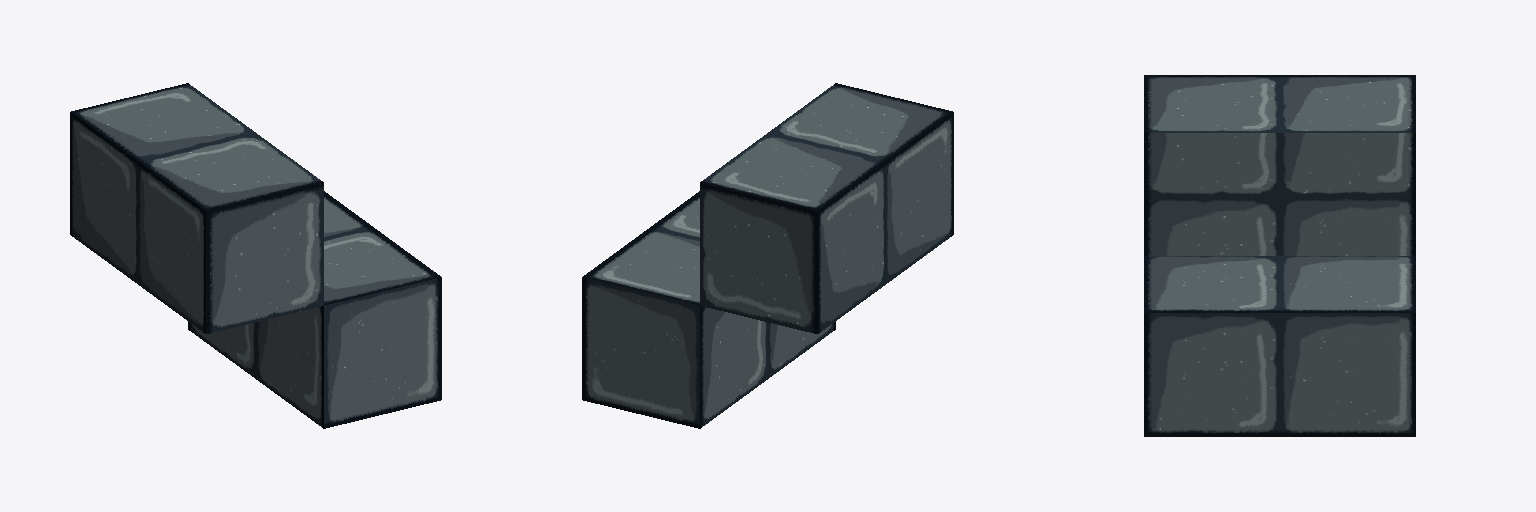
3 renders of one model, left to right at view 1: azimuth 30°, elevation 25°; view 2: azimuth 150°, elevation 25°; view 3: azimuth 270°, elevation 25°, orthographic.
Visible parts, largest first — view 1: 9_stone; view 2: 9_stone; view 3: 9_stone.
Boxes of the visible parts, box(x1,y1,x2,y2) form: 9_stone: box(70, 83, 441, 428); 9_stone: box(582, 83, 953, 428); 9_stone: box(1144, 75, 1415, 436).
Size of the model in its own units: 1 by 1 by 1.
1 materials, 1 textured.